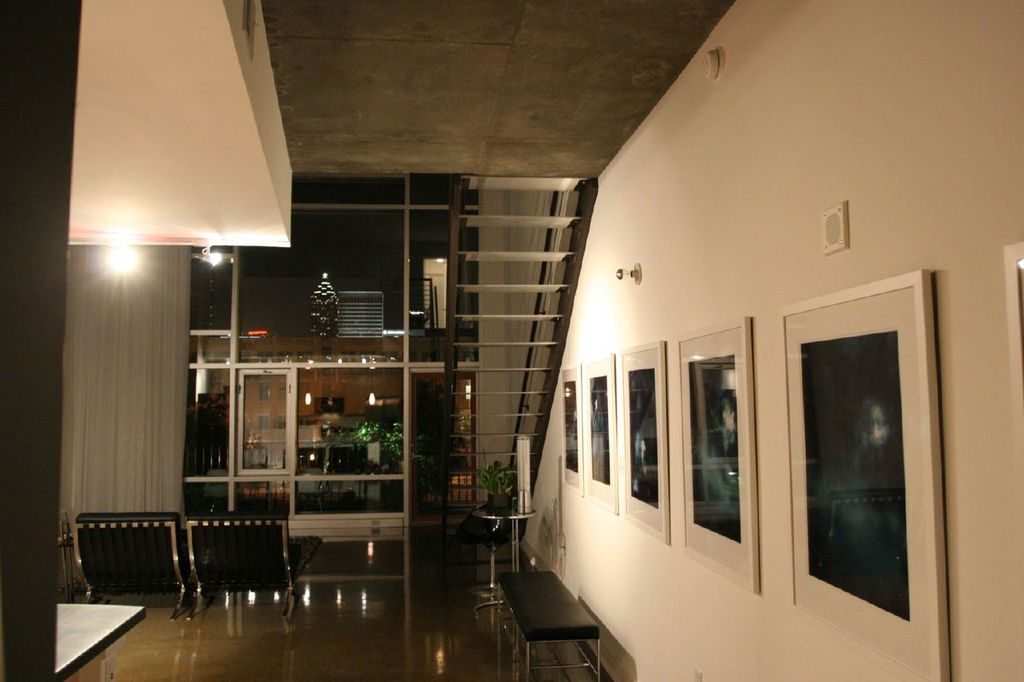Chair: (174, 516, 292, 619), (70, 513, 175, 620)
